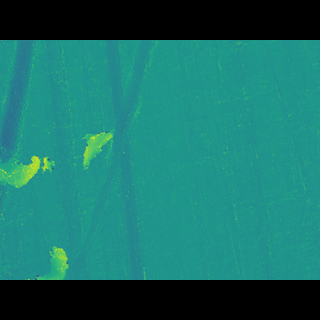Loch: (61, 68, 162, 250), (0, 69, 42, 160), (0, 151, 57, 183), (76, 135, 121, 170), (25, 223, 80, 251)
